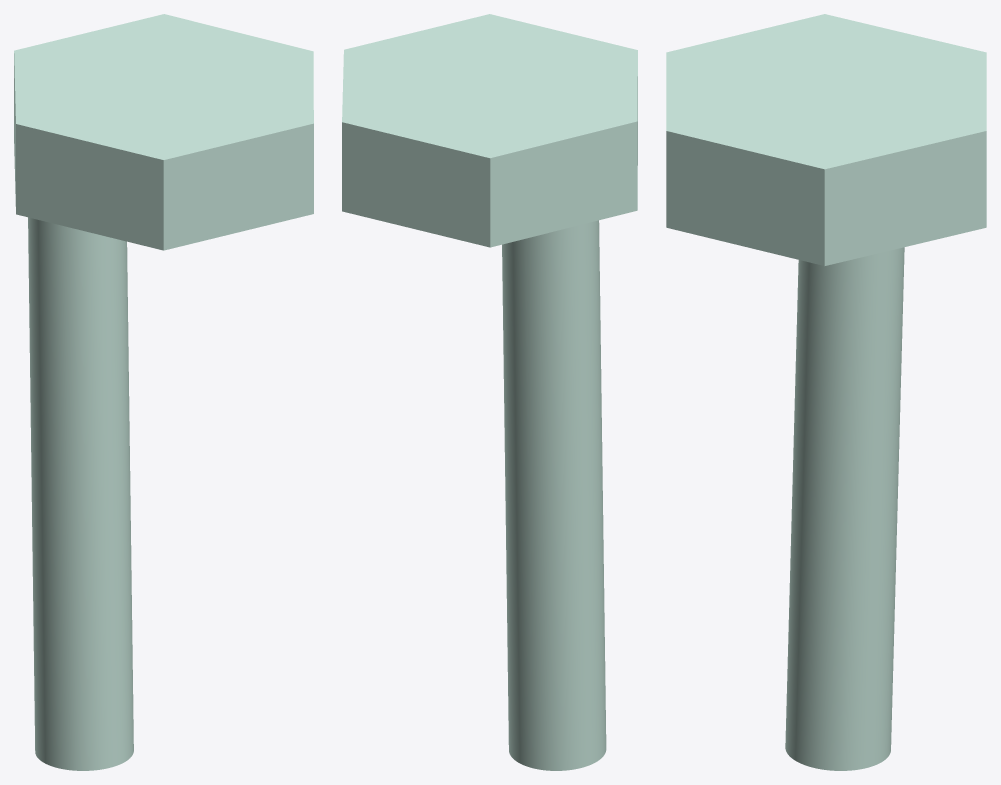
3 renders of one model, left to right at view 1: azimuth 30°, elevation 25°; view 2: azimuth 150°, elevation 25°; view 3: azimuth 270°, elevation 25°, orthographic. The views are drawn at different scales.
Visible parts, largest first — view 1: Renderer Node; view 2: Renderer Node; view 3: Renderer Node.
Part boxes in pixels (<box>): Renderer Node: <box>14,14,313,770</box>; Renderer Node: <box>342,14,637,770</box>; Renderer Node: <box>666,14,986,770</box>.
Size of the model in its own units: 0.4034 by 0.8435 by 0.3516.
